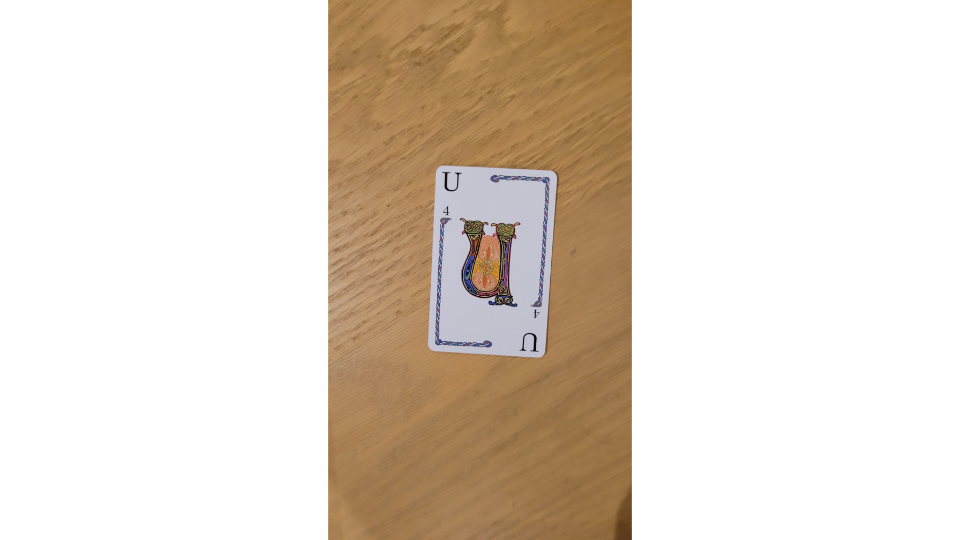U: (425, 162, 560, 359)
